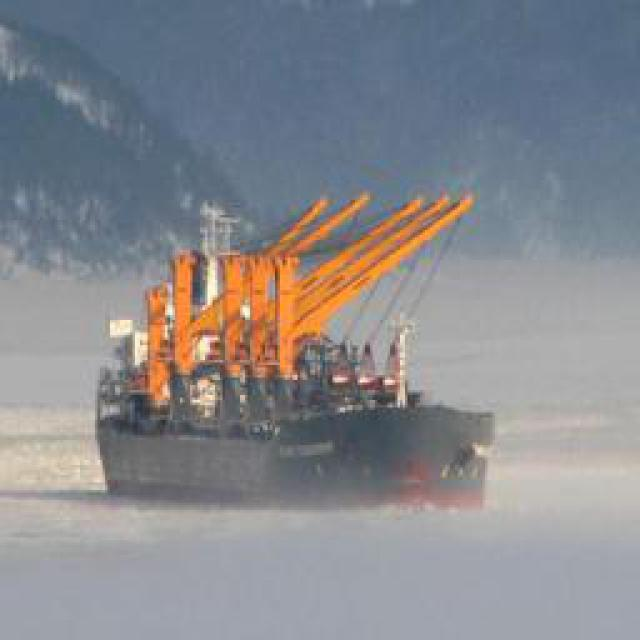Ship: (78, 212, 505, 527)
